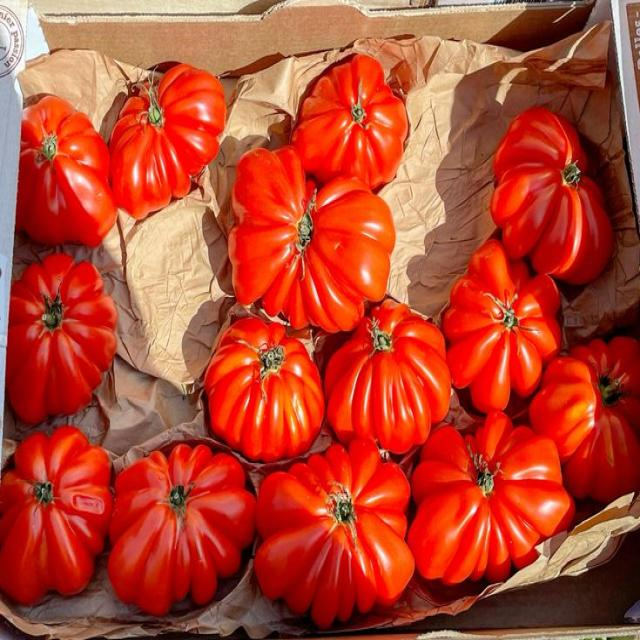tomato: (229, 147, 395, 332), (255, 439, 414, 629), (408, 411, 573, 584), (108, 444, 255, 615), (491, 108, 613, 283), (0, 426, 112, 606), (443, 240, 560, 412), (324, 300, 451, 453), (7, 254, 117, 423), (530, 337, 639, 503), (110, 65, 226, 219), (205, 318, 324, 461), (291, 54, 408, 189), (16, 96, 116, 246)
